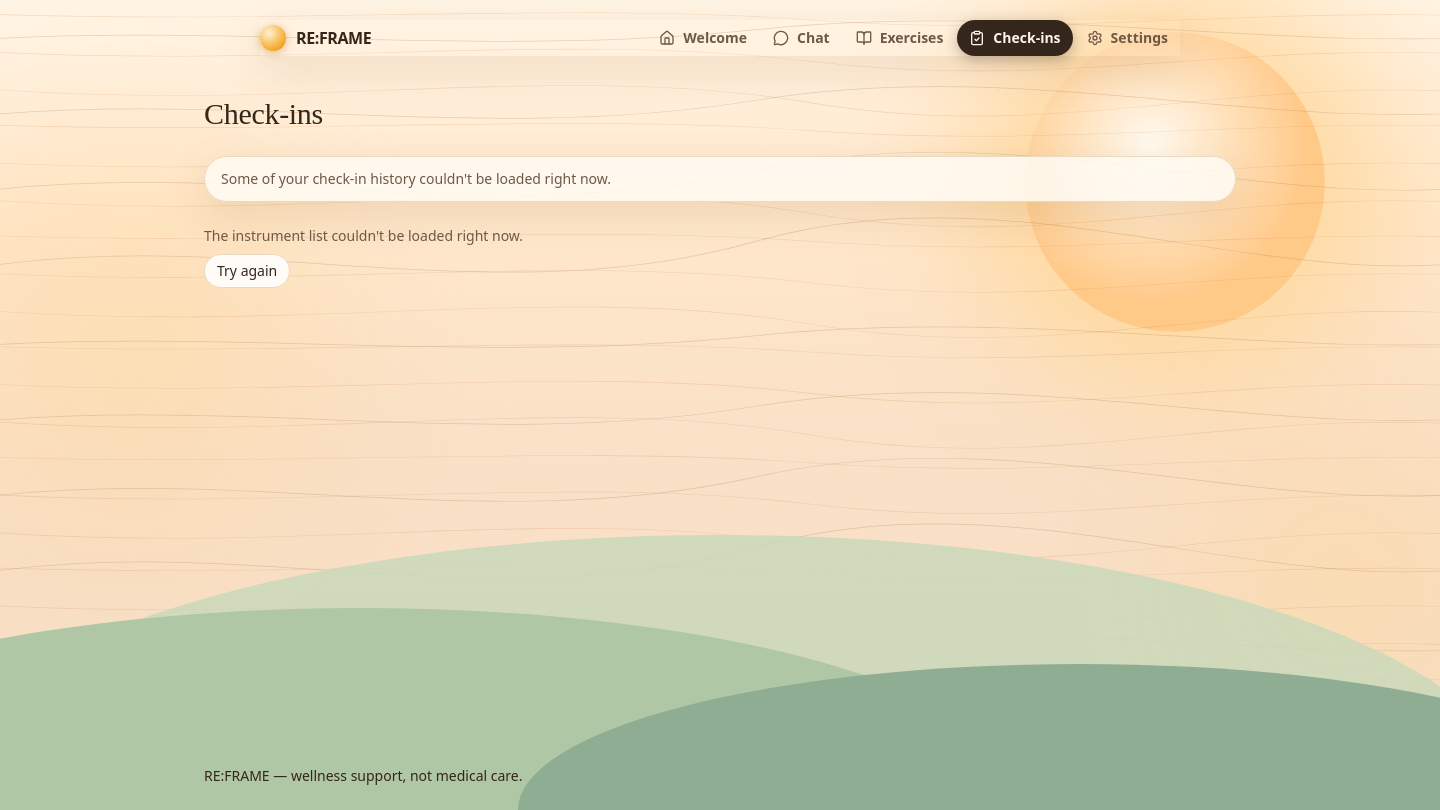
AppShell › renders the Settings page with its heading
The image size is (1440, 810).
Click the link "Settings" at (1127, 38), box [1087,28,1168,47]
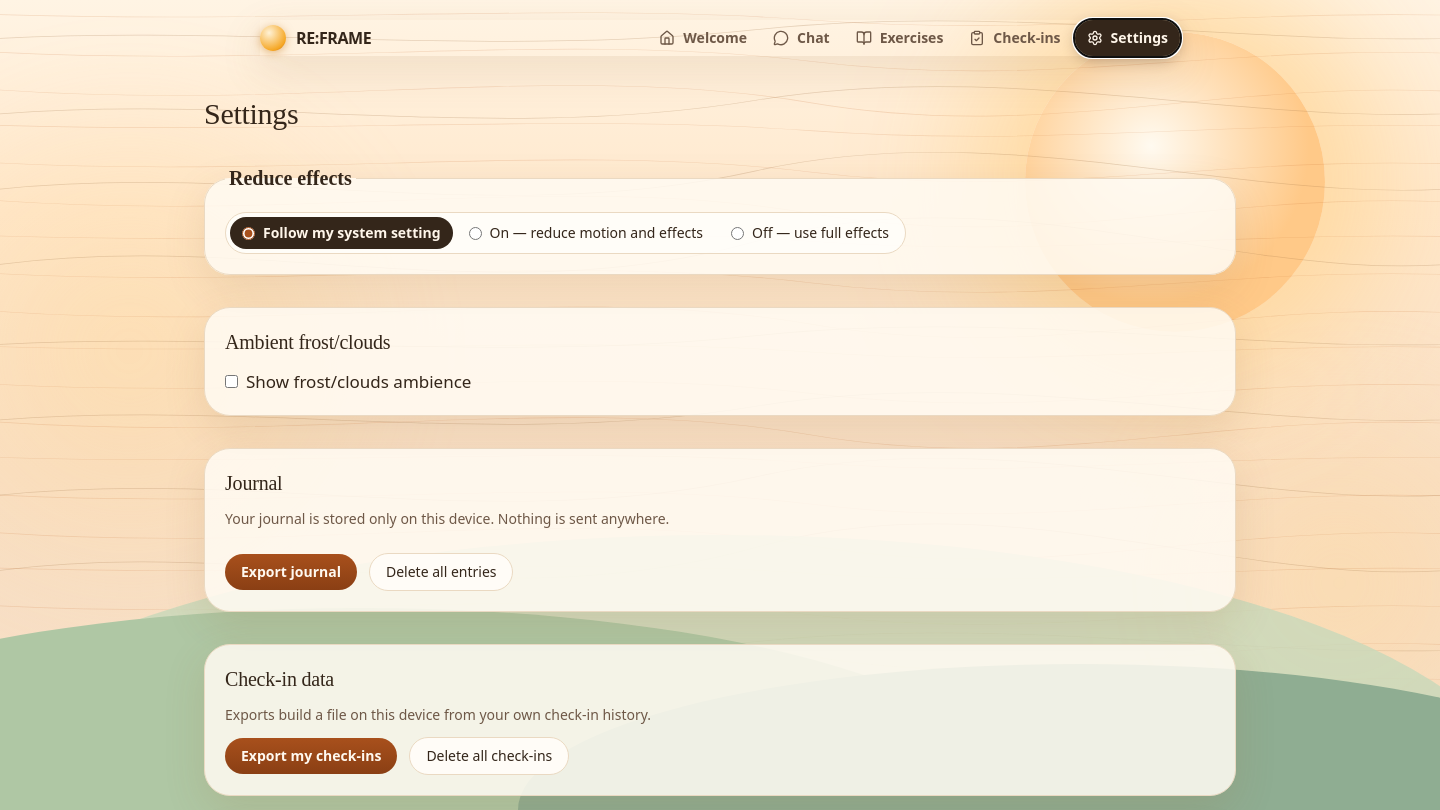
expect the heading "Settings" is shown: met, box [204,97,298,130]
